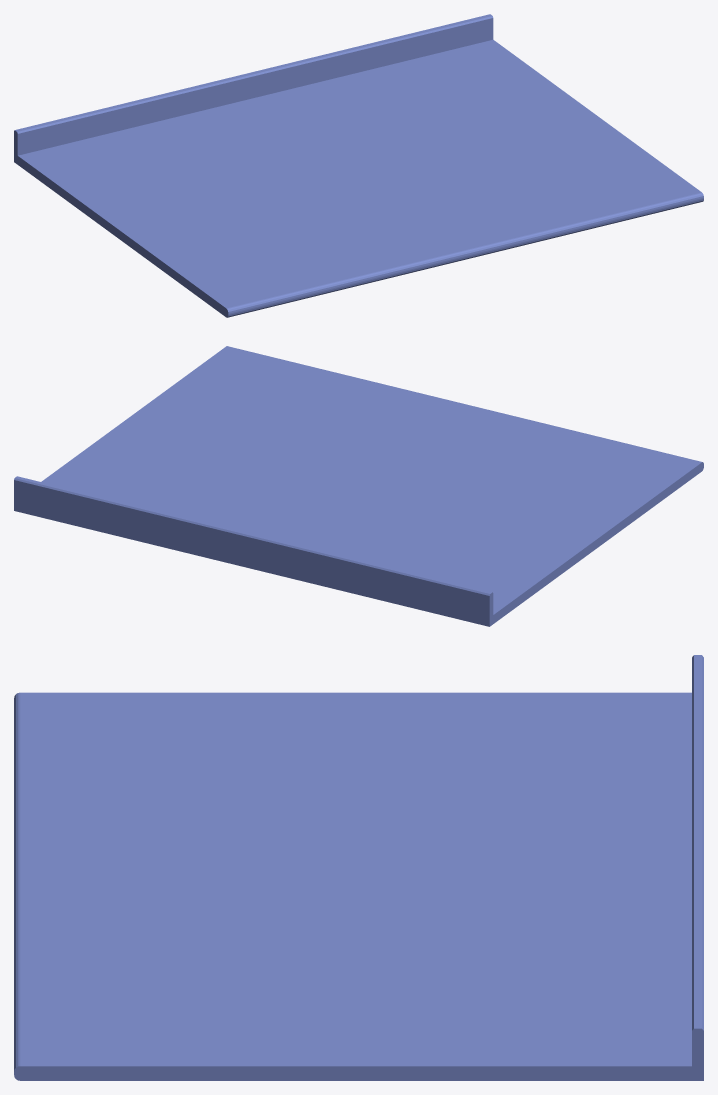
Rendered from stul_deska.fbx.
The picture shows the model from 3 angles, top to bottom: view 1: azimuth 30°, elevation 25°; view 2: azimuth 150°, elevation 25°; view 3: azimuth 270°, elevation 25°; orthographic projection. The views are drawn at different scales.
Parts seen in each view (by area): view 1: stul_deska; view 2: stul_deska; view 3: stul_deska.
Boxes of the visible parts, x1=… form: stul_deska: x1=14, y1=14, x2=703, y2=317; stul_deska: x1=14, y1=346, x2=703, y2=626; stul_deska: x1=14, y1=655, x2=703, y2=1080.
Size of the model in its own units: 109 by 7.1 by 85.08.
